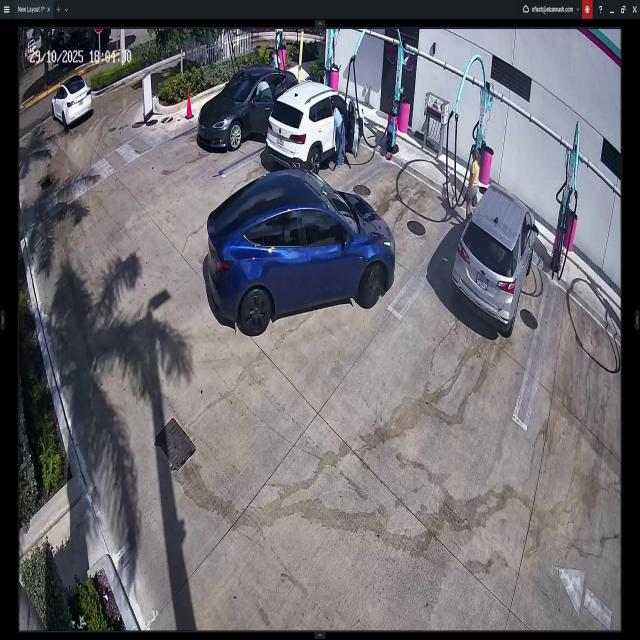Car: (214, 174, 394, 332), (451, 179, 536, 337), (264, 78, 362, 177), (196, 65, 298, 153), (52, 78, 93, 130)
